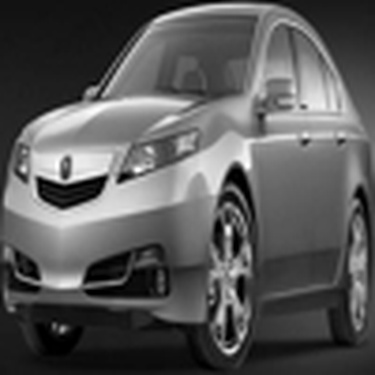car: (6, 5, 368, 370)
